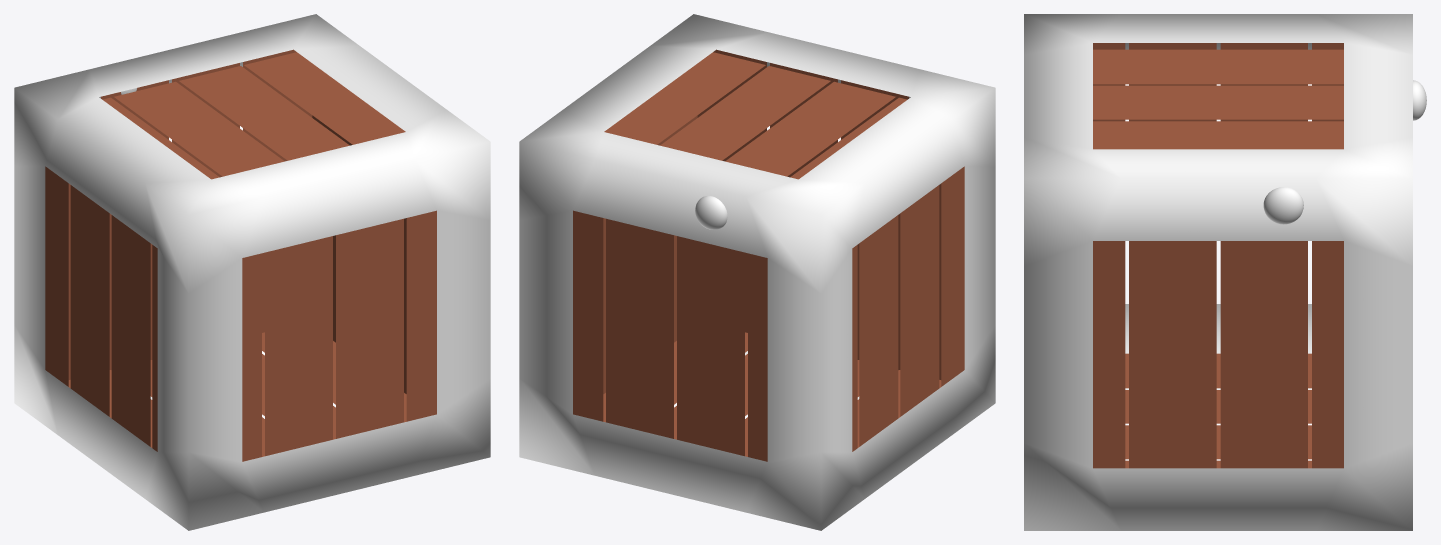
The model's file is cratebox.glb.
3 views of the same model, side by side, from view 1: azimuth 30°, elevation 25°; view 2: azimuth 150°, elevation 25°; view 3: azimuth 270°, elevation 25° (orthographic). The views are drawn at different scales.
Parts seen in each view (by area): view 1: Cube, Cube.001, Cube.002; view 2: Cube, Cube.001, Cube.002, Sphere.001; view 3: Cube, Cube.001, Cube.002, Sphere.
Boxes of the visible parts, x1,y1,x2,y2 form: Cube: (14,14,490,530); Cube.001: (45,49,436,461); Cube.002: (68,52,406,456); Cube: (519,14,995,530); Cube.001: (573,49,964,461); Cube.002: (603,52,941,456); Sphere.001: (695,196,727,229); Cube: (1024,14,1412,530); Cube.001: (1093,43,1343,468); Cube.002: (1093,49,1343,468); Sphere: (1263,187,1303,224).
Size of the model in its own units: 1.92 by 1.85 by 1.92.
